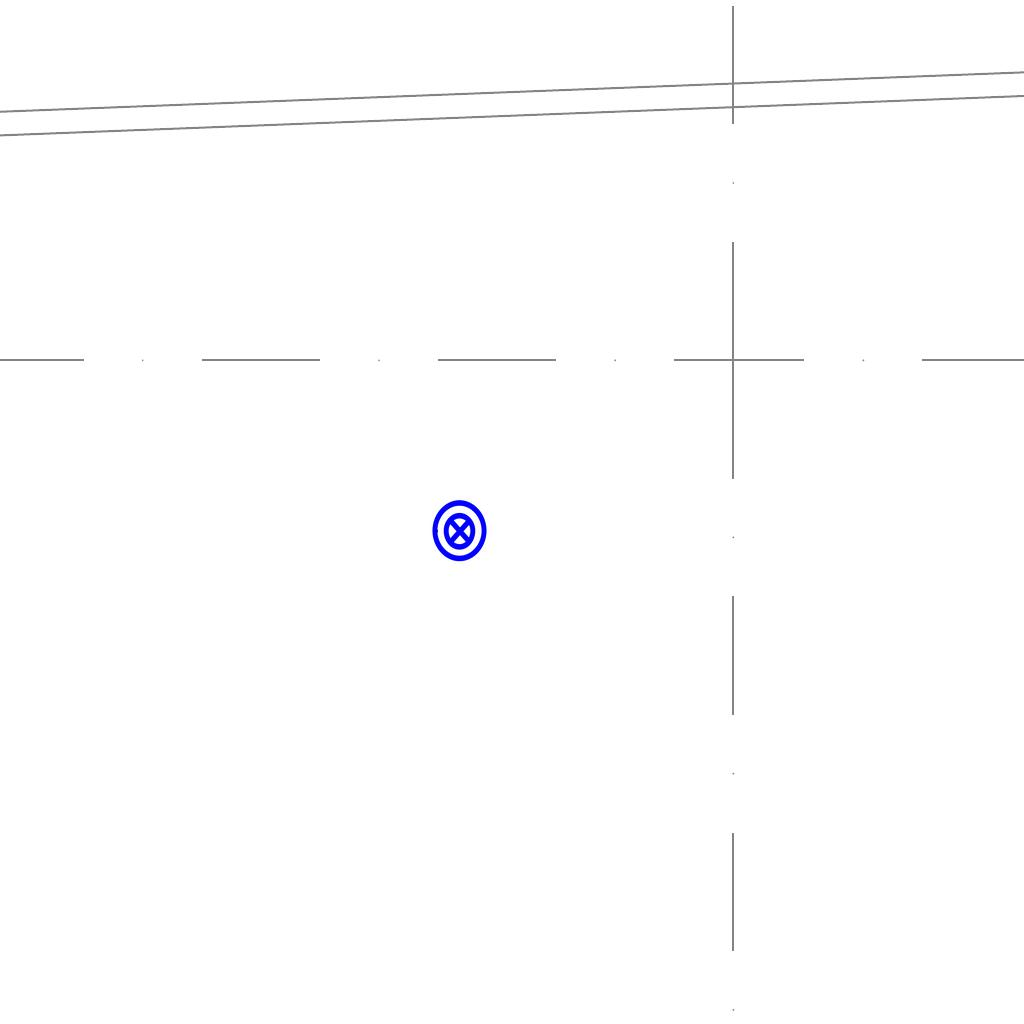Taster_beleuchtet: (427, 498, 493, 564)
